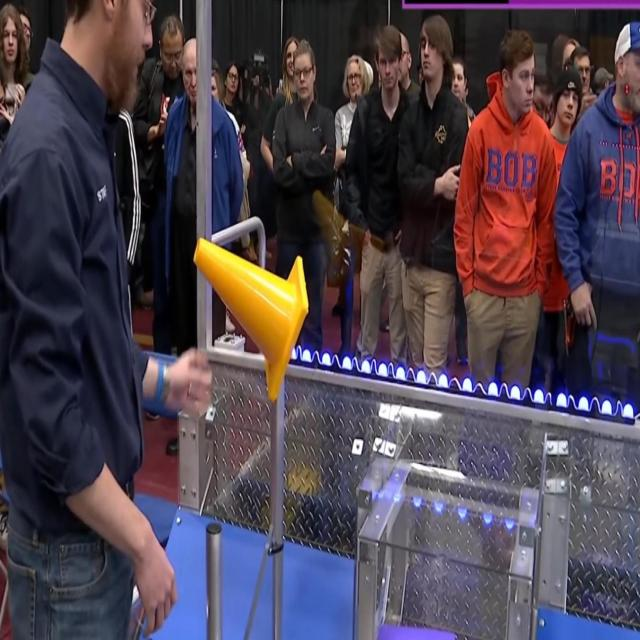frc_cone: (191, 230, 305, 400)
frc_cube: (374, 622, 475, 640)
